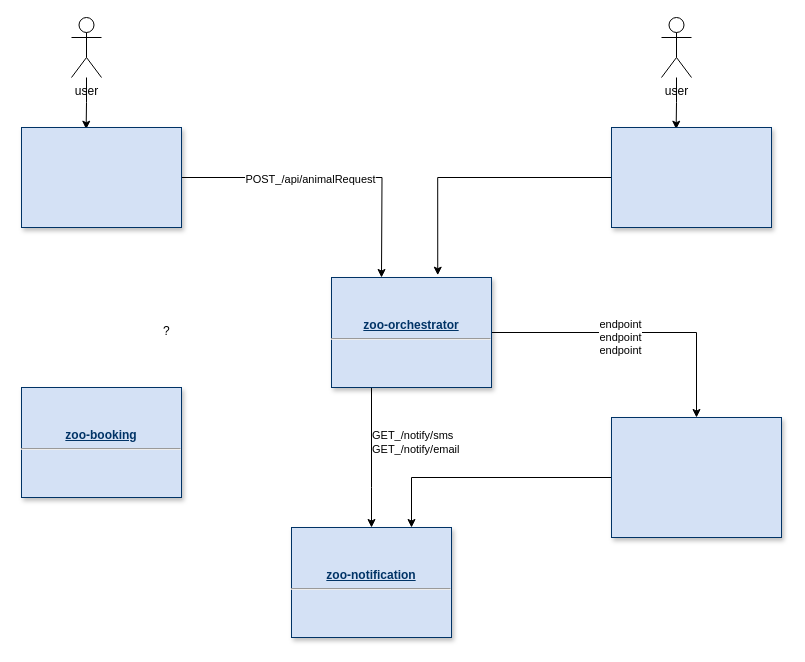
The diagram is 805 pixels wide and 662 high, and some of its shapes have lost their labels. Each missing label, with the centre of its shape:
front: pixel 692 178
zoo-confirmation: pixel 697 478
zoo-telegram-bot: pixel 102 178
